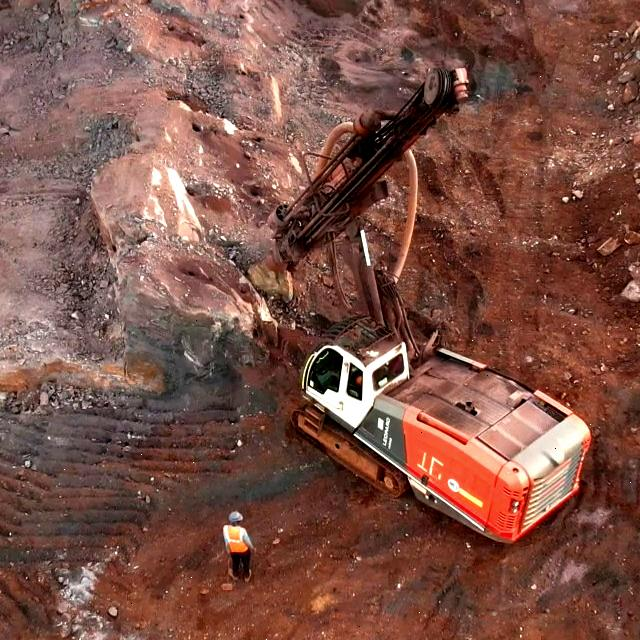Blast rig: (290, 327, 607, 527)
person: (221, 513, 257, 586)
